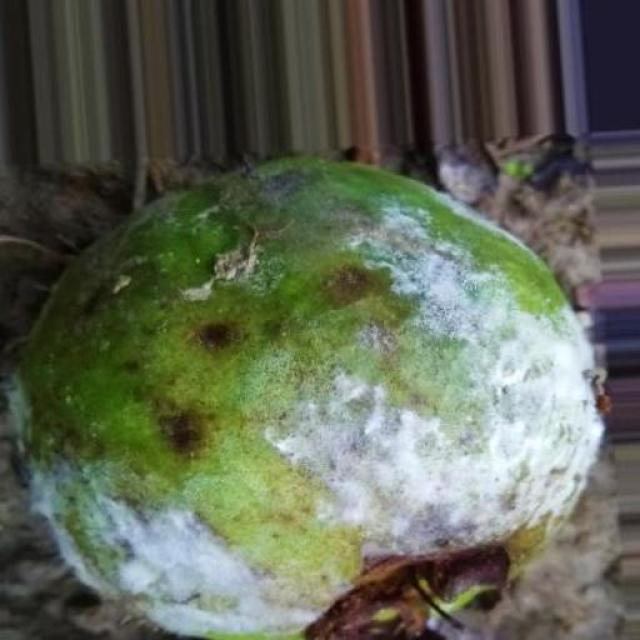Phytopthora: (21, 159, 602, 640)
